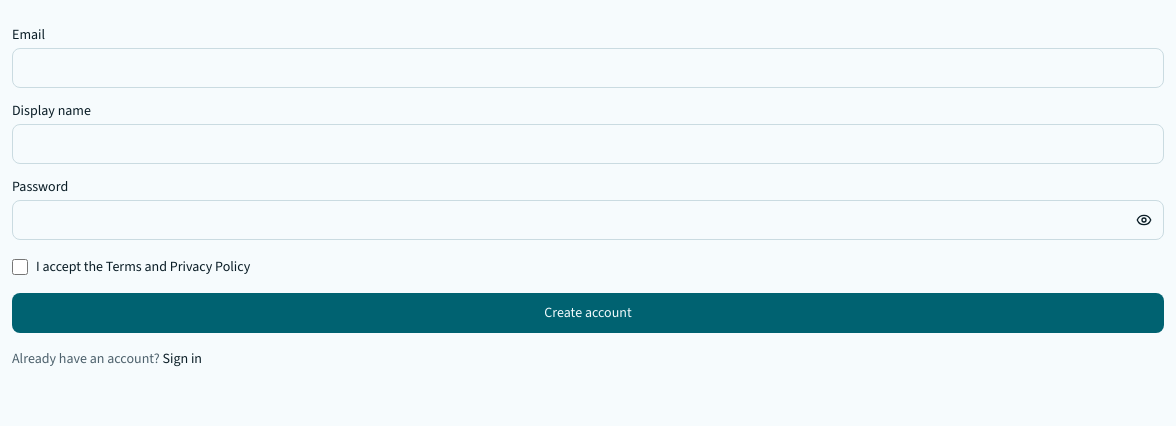
Test: register form › shows a common-password rejection from the API
This screenshot has width=1176, height=426.
Type "learner@example.com" into the field labelled "Email" at (588, 68), box [12,48,1164,88]
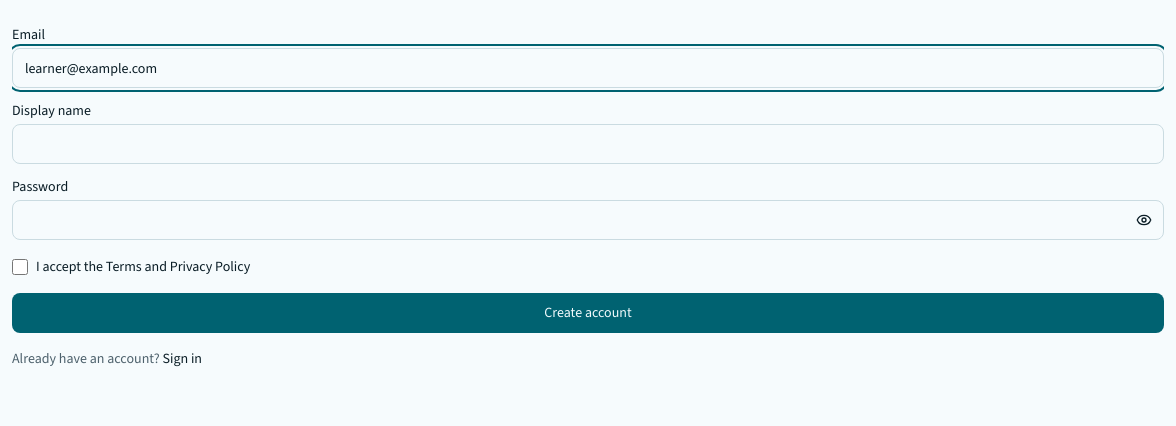
Type "Ada" into the field labelled "Display name" at (588, 144), box [12,124,1164,164]
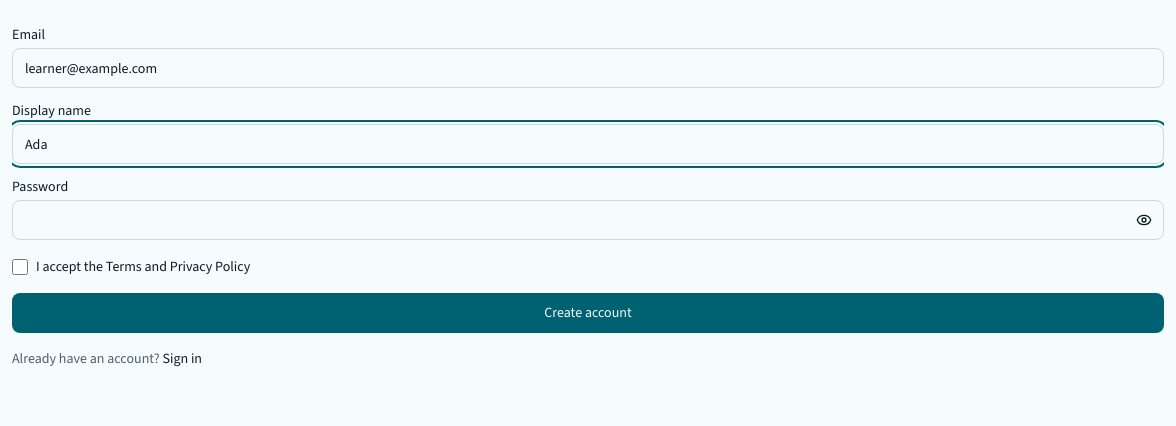
Type "password12345" into the password field labelled "Password" at (588, 220), box [12,200,1164,240]
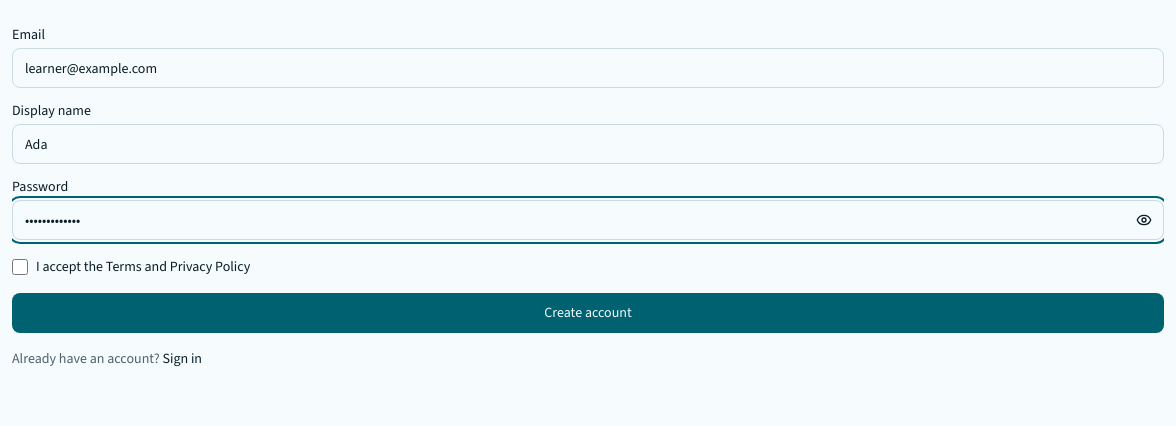
Click the checkbox labelled "I accept the Terms and Privacy Policy" at (20, 266), box [12,258,28,274]
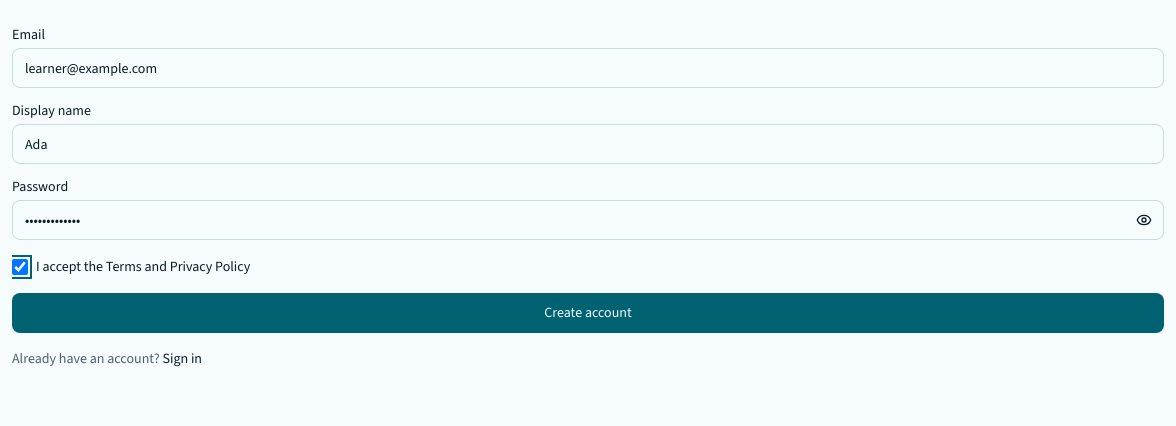
Click the button "Create account" at (588, 313), box [12,293,1164,333]
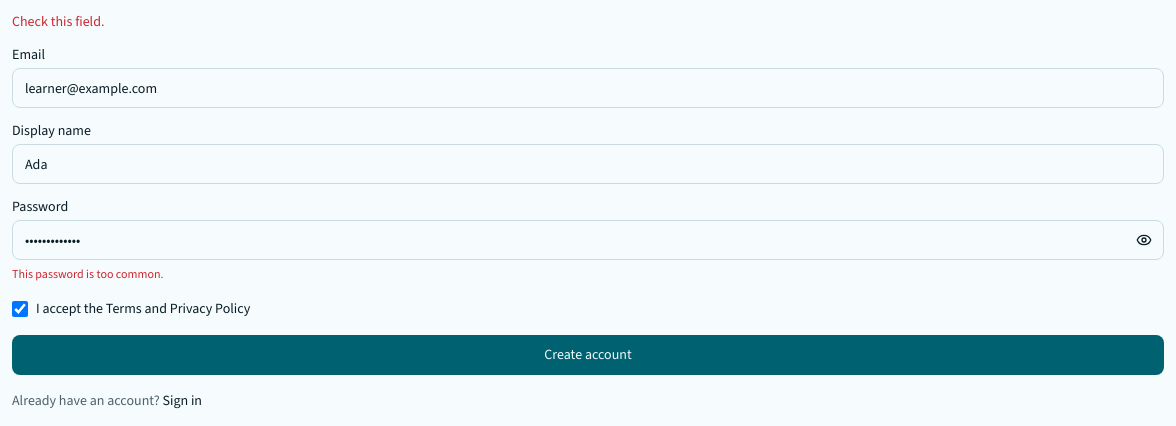
Now the text "This password is too common." is shown, box [12,266,164,282]
